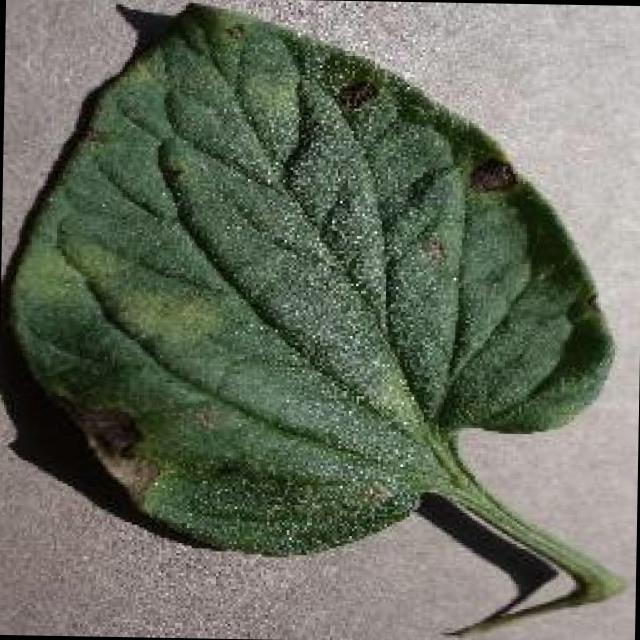Tomato Early blight leaf: (2, 5, 612, 562)
